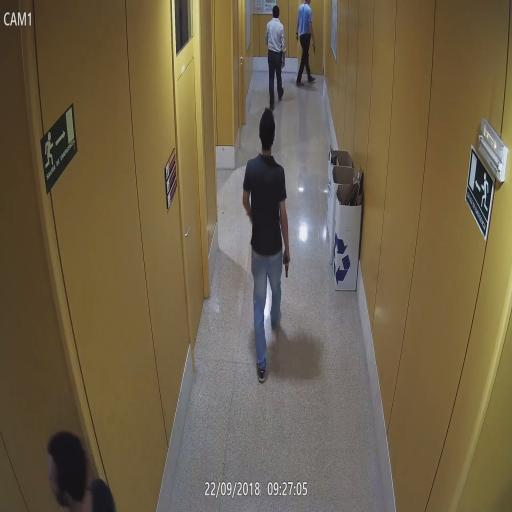Handgun: (282, 248, 290, 279), (310, 41, 318, 55)
